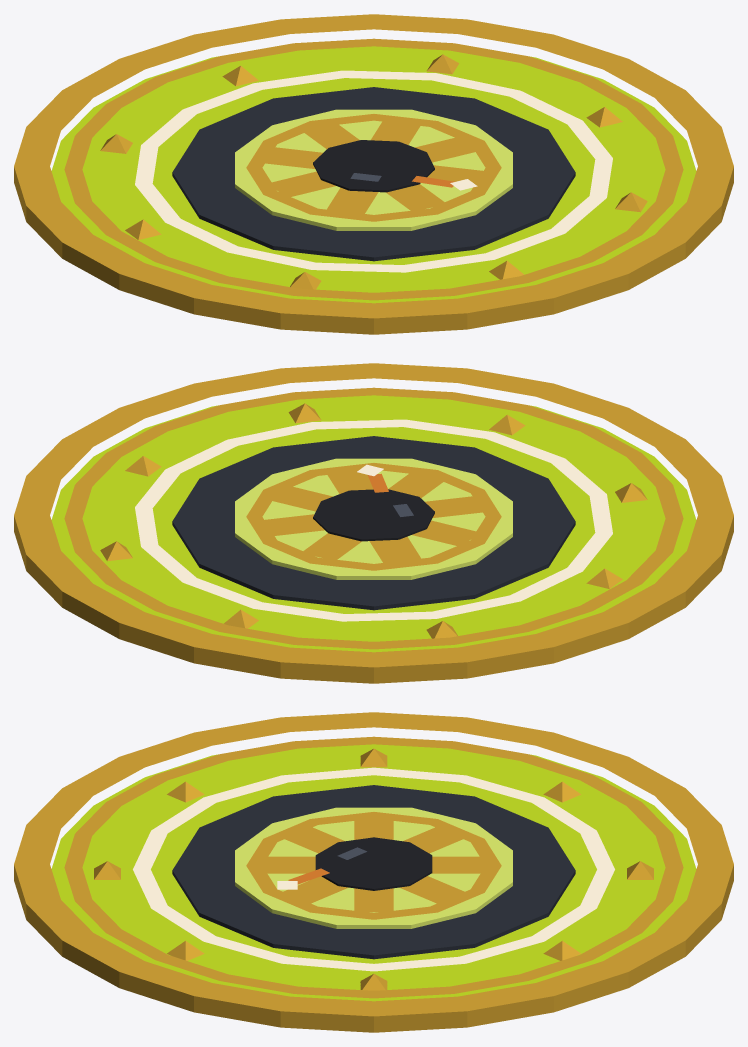
The model's file is daredevil_legend_area.glb.
3 views of the same model, one above another, from view 1: azimuth 30°, elevation 25°; view 2: azimuth 150°, elevation 25°; view 3: azimuth 270°, elevation 25° (orthographic).
Parts seen in each view (by area): view 1: daredevil_legend_area; view 2: daredevil_legend_area; view 3: daredevil_legend_area.
Part boxes in pixels (box(x1,y1,x2,y2)): daredevil_legend_area: box(14, 14, 733, 334); daredevil_legend_area: box(14, 363, 733, 683); daredevil_legend_area: box(14, 712, 733, 1032).
Size of the model in its own units: 2 by 0.06 by 2.
2 materials, 2 textured.
